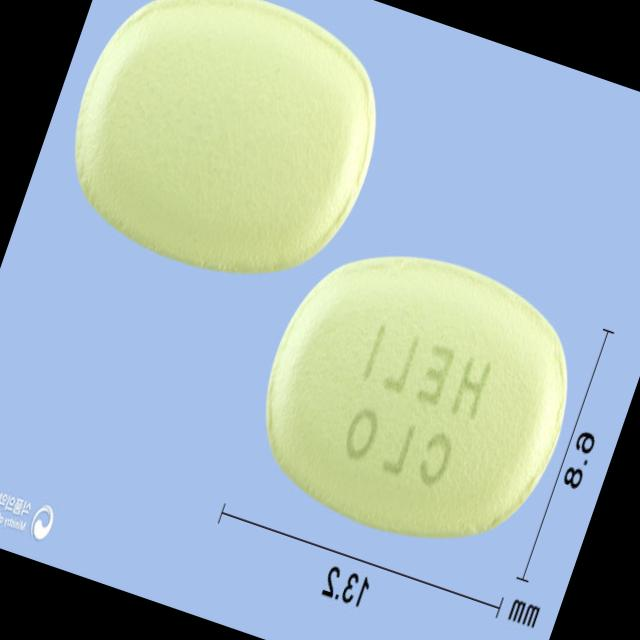Heliclo Tab: (229, 213, 601, 577)
